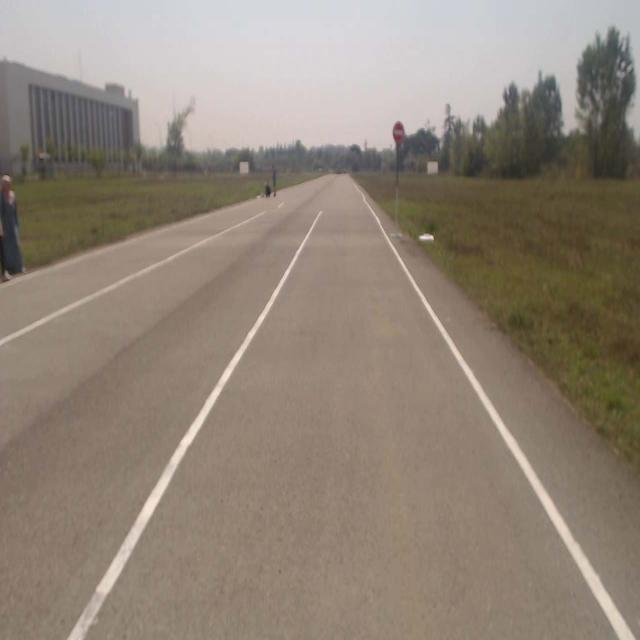girisyok: (393, 122, 405, 142)
